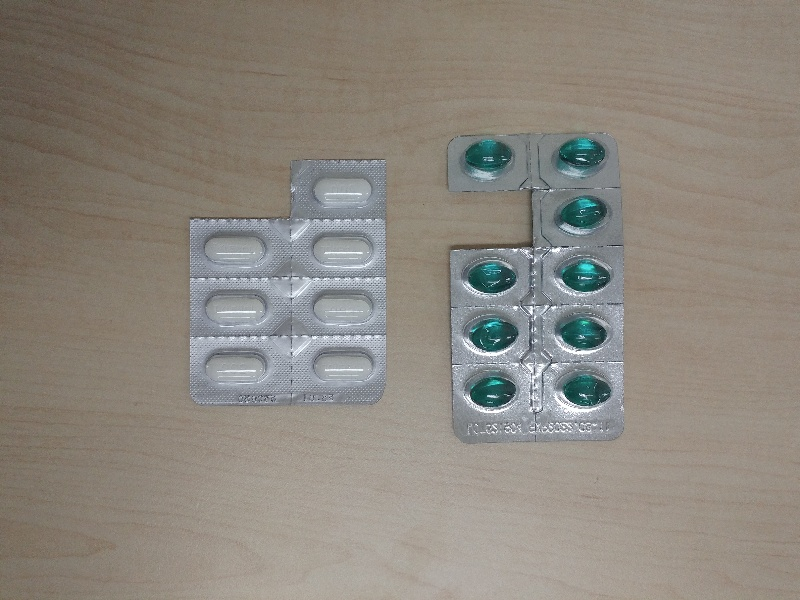pill_ezn: (535, 246, 622, 302), (535, 305, 623, 360), (450, 248, 533, 304), (533, 135, 619, 189), (535, 190, 621, 244), (449, 134, 530, 190), (452, 308, 534, 363), (536, 364, 622, 416), (452, 367, 532, 419)
pill_tylenol: (191, 220, 291, 277), (191, 278, 291, 335), (191, 337, 291, 394), (291, 159, 385, 218), (291, 278, 388, 334), (292, 219, 386, 275), (292, 337, 388, 391)
